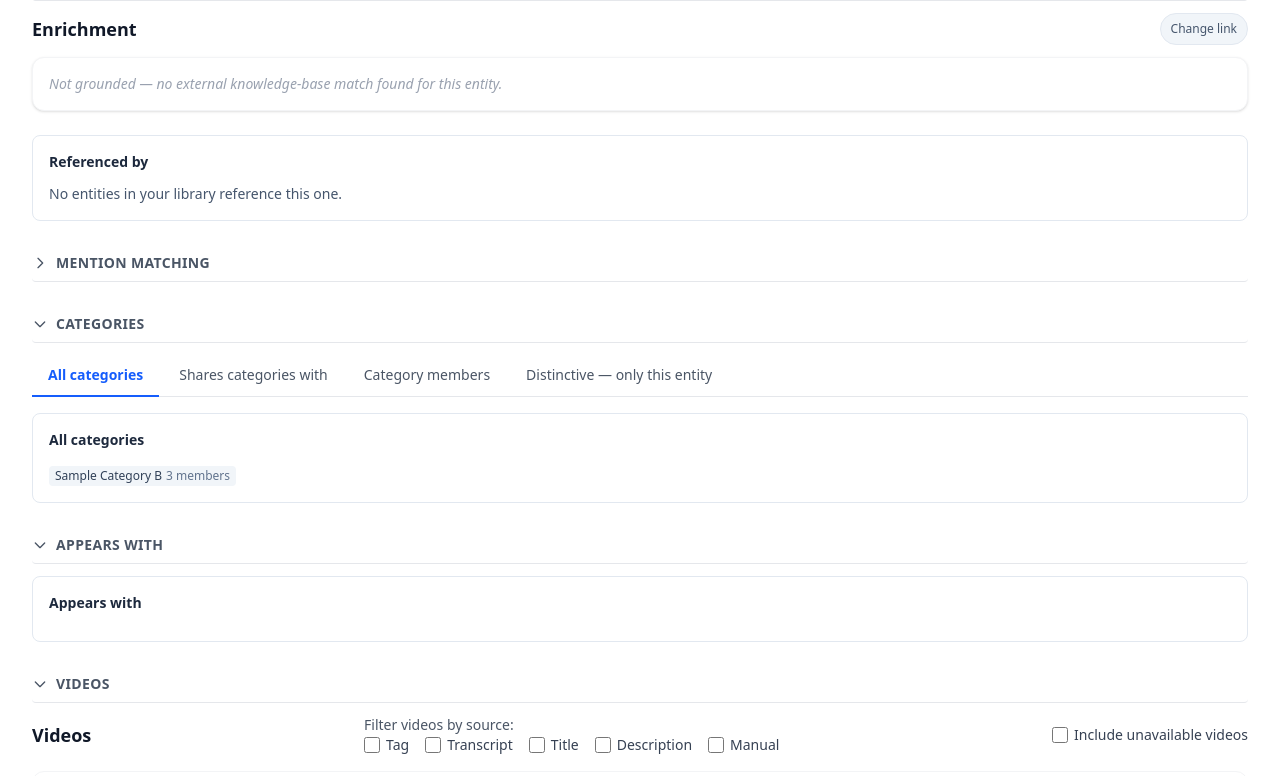
Test case: EntityDetailPage › Categories group framing (Feature 089, SC-004) › shows one panel at a time and keeps the others unmounted (SC-002)
(page scrolled)
What coordinates should you click on to do the following:
click the tab with test id "category-tab-shared"
I would click on:
 (253, 376)
Its box is x1=163 y1=355 x2=344 y2=397.
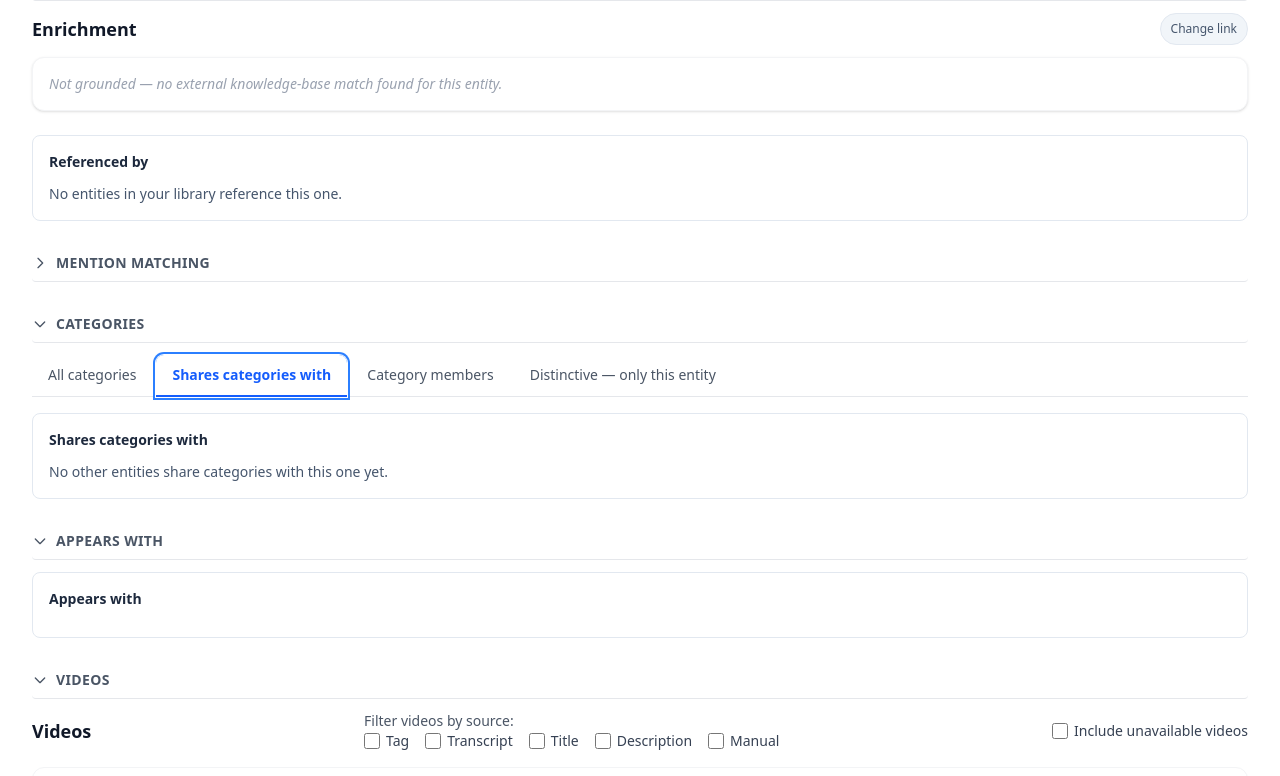
expect the element with test id "shared-categories-panel" is shown: met, box x1=32 y1=413 x2=1248 y2=499
expect the heading with test id "all-categories-panel" is gone: met
What coordinates should you click on to do the following:
click the tab with test id "category-tab-distinctive"
I would click on:
 (623, 376)
Its box is x1=514 y1=355 x2=732 y2=397.
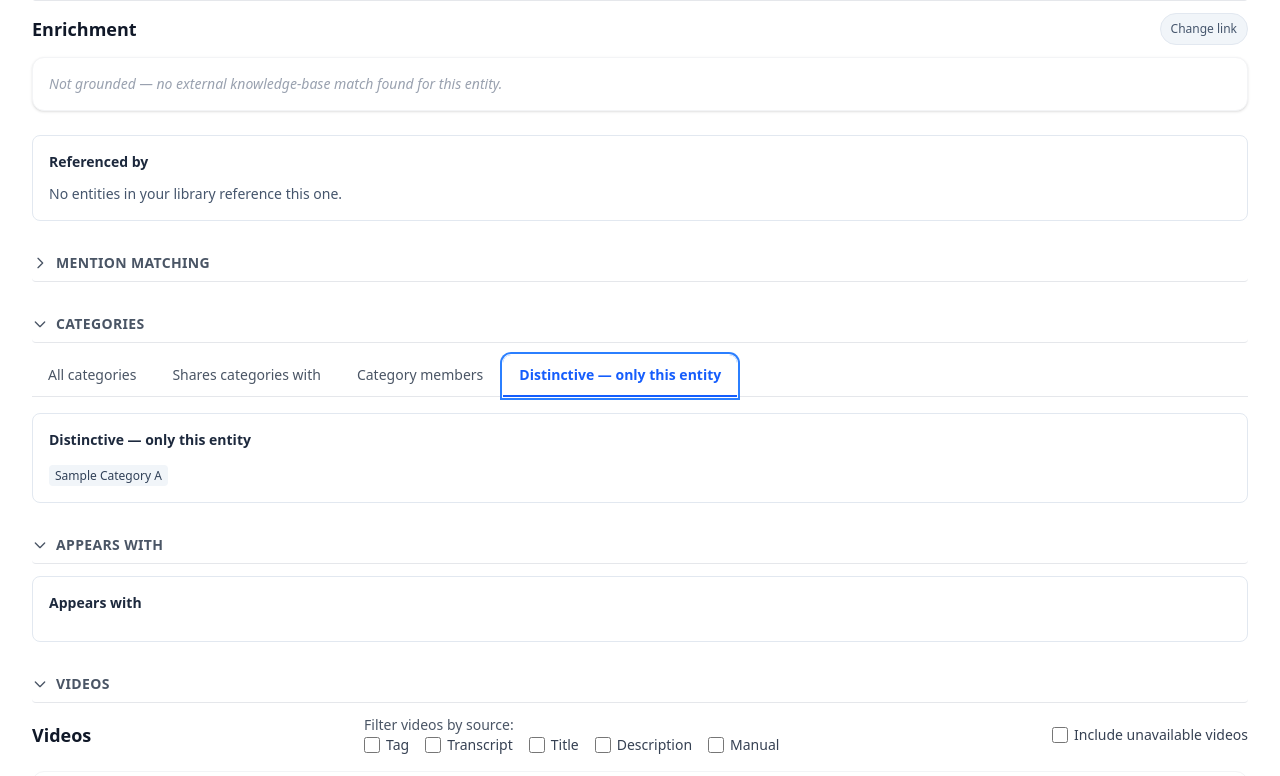
expect the element with test id "distinctive-categories-panel" is shown: met, box x1=32 y1=413 x2=1248 y2=503
expect the element with test id "shared-categories-panel" is gone: met
